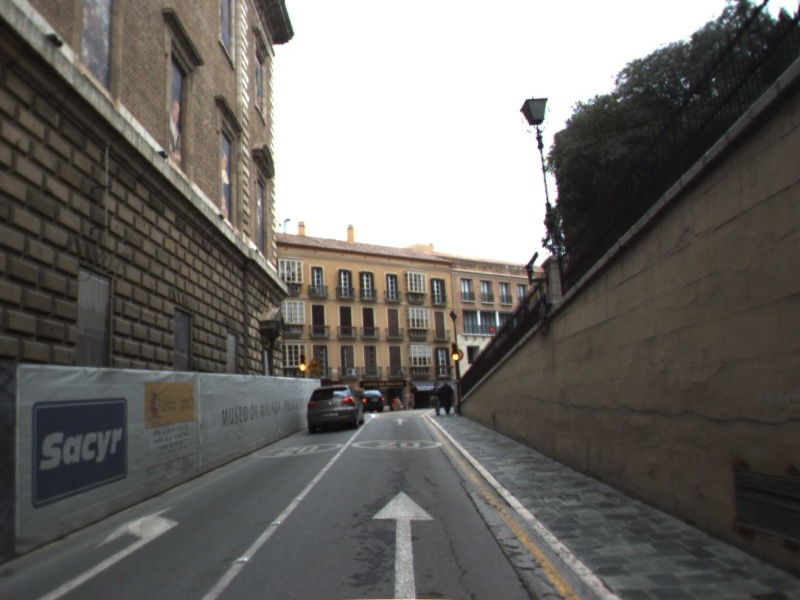LEFT: (39, 500, 183, 600)
STRAIGHT: (368, 486, 438, 600), (391, 416, 410, 426)
